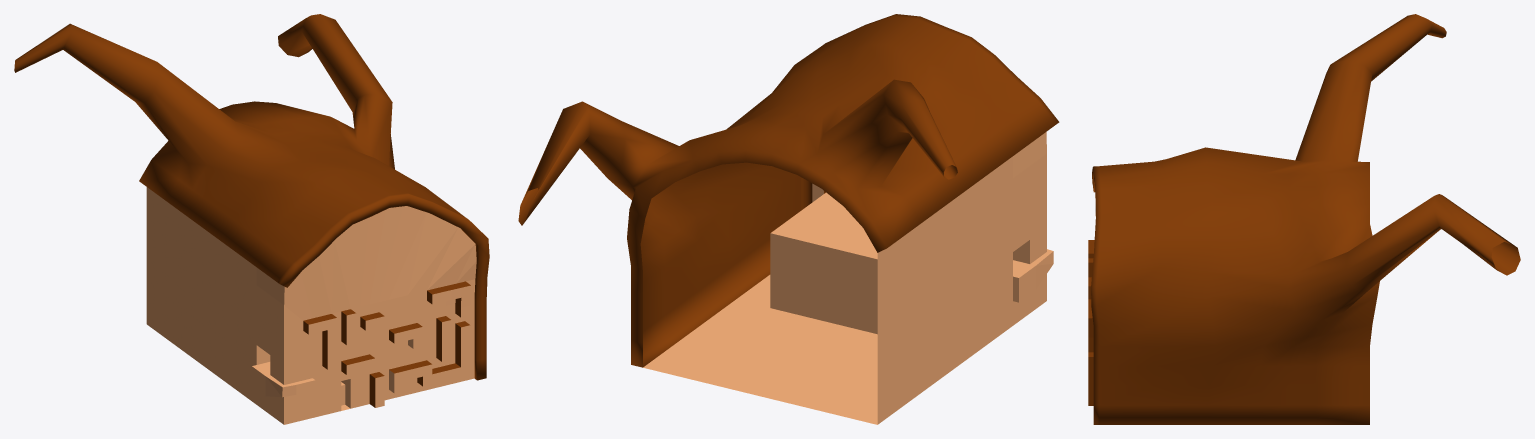
The model's file is west_mountain.glb.
3 renders of one model, left to right at view 1: azimuth 30°, elevation 25°; view 2: azimuth 150°, elevation 25°; view 3: azimuth 270°, elevation 25°, orthographic. The views are drawn at different scales.
Visible parts, largest first — view 1: WestMountain; view 2: WestMountain; view 3: WestMountain.
Boxes of the visible parts, <box> form: WestMountain: <box>14,14,489,424</box>; WestMountain: <box>518,14,1059,424</box>; WestMountain: <box>1088,14,1520,424</box>.
Bounding box in the file's own units: 34.93 × 29.58 × 39.95.
